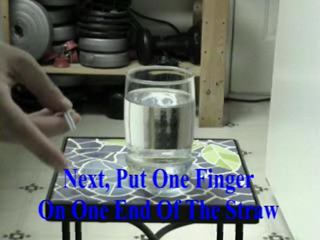glass of water: (124, 66, 197, 172)
